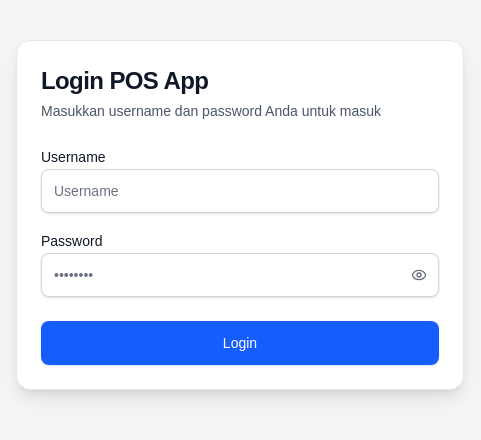
LoginPage › shows validation errors when submitting empty form
The image size is (481, 440).
Click the button "Login" at point(240, 343), box [41,321,439,365]
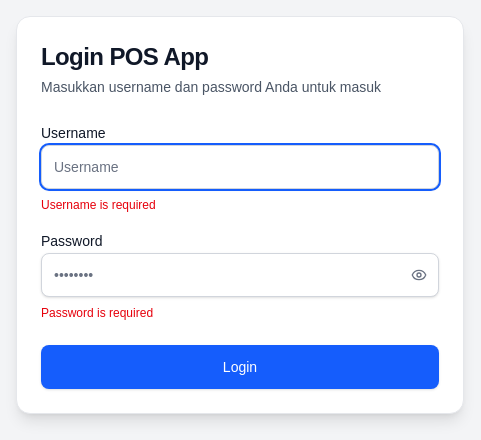
expect the text "Username is required" is shown: met, box [41,198,156,212]
expect the text "Password is required" is shown: met, box [41,306,153,320]
